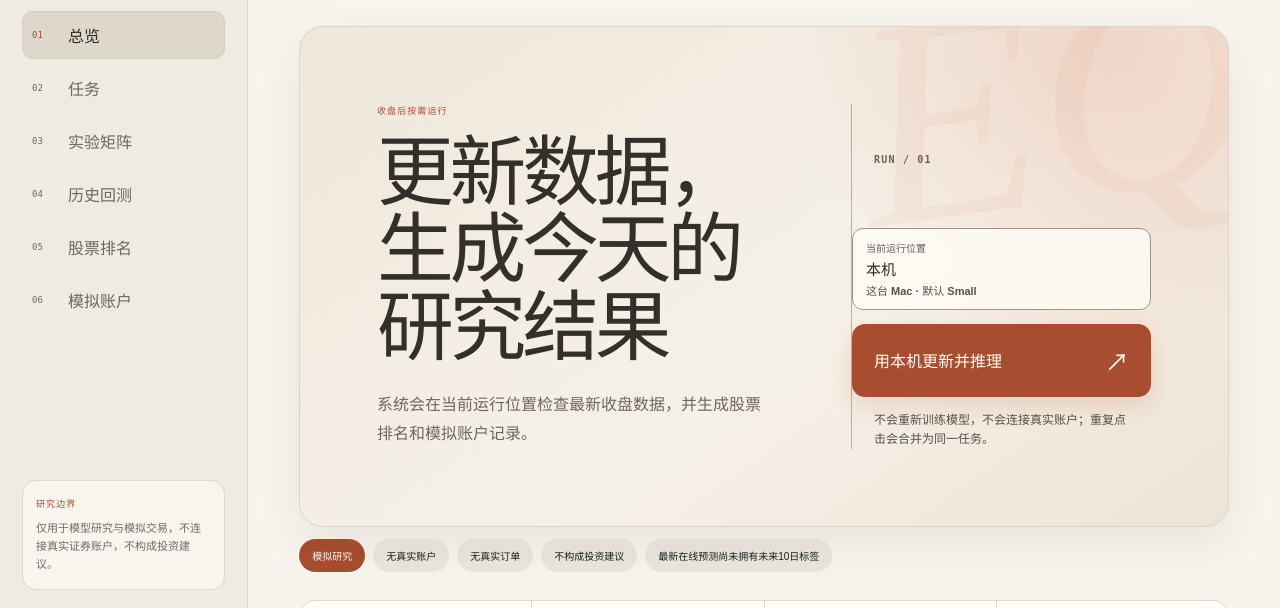
Test: ElanQuant dashboard states › submits the active profile and labels the receipt from its frozen identity
Click the button "用本机更新并推理 ↗" at (1002, 360), box left=852, top=324, right=1151, bottom=397
(page scrolled)
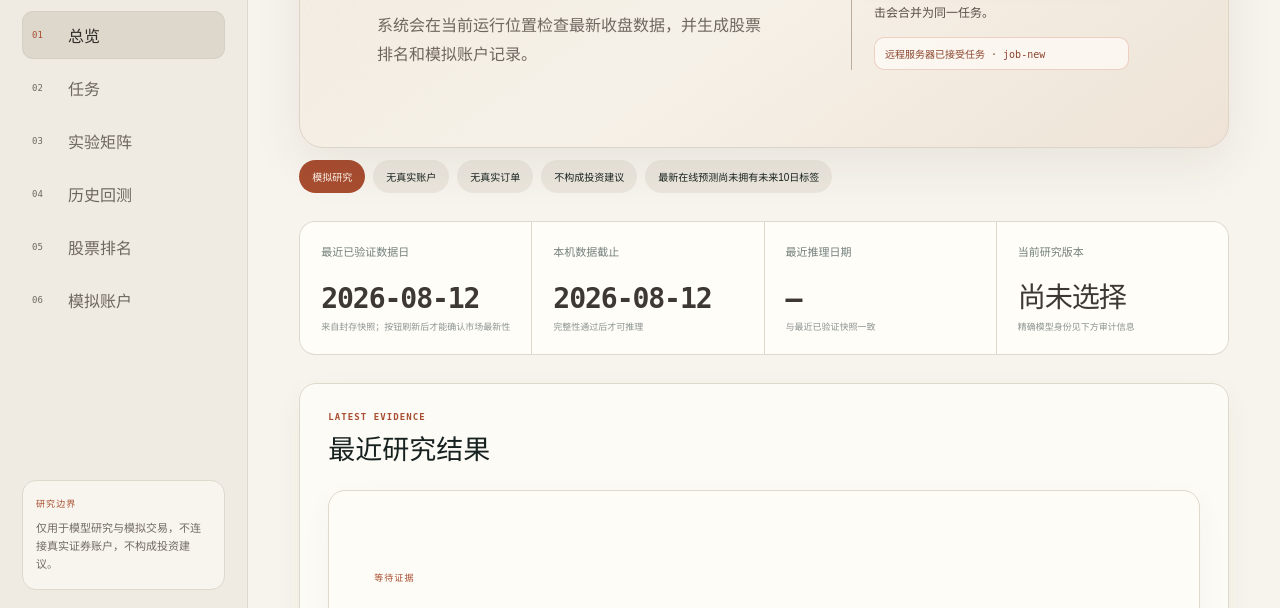
Expected: the text "本机数据截止" is shown, left=553, top=246, right=619, bottom=258
Now the text "远程服务器已接受任务 · job-new" is shown, box left=874, top=37, right=1129, bottom=70
